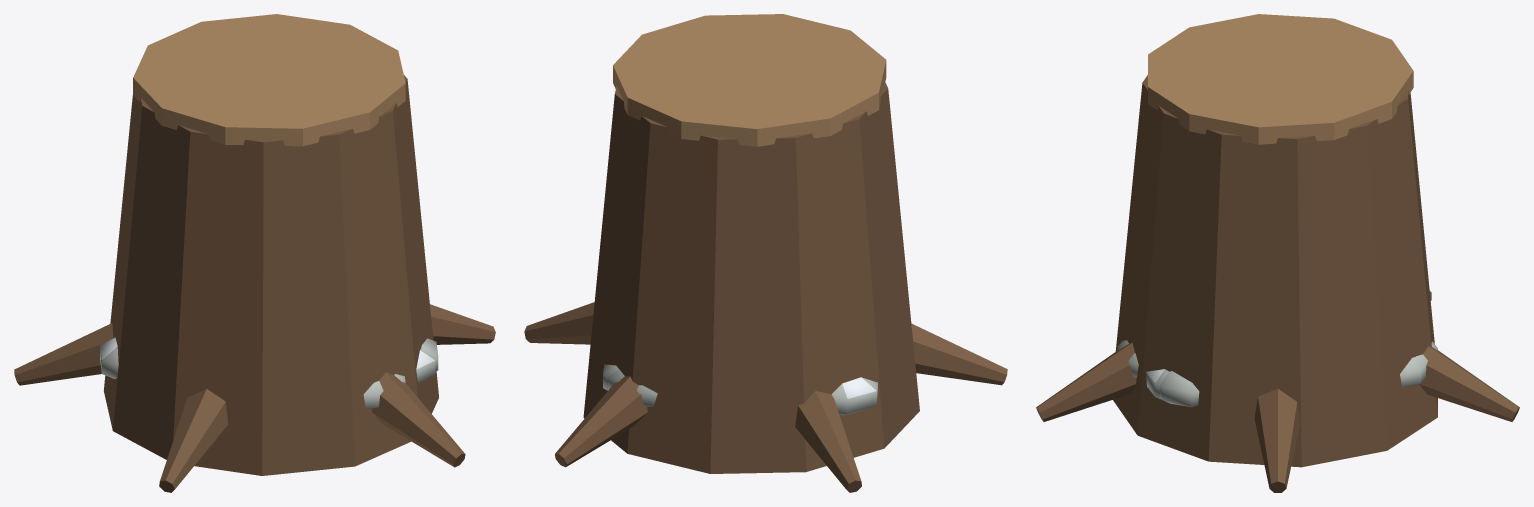
The model's file is stump_mossy_winter.glb.
3 renders of one model, left to right at view 1: azimuth 30°, elevation 25°; view 2: azimuth 150°, elevation 25°; view 3: azimuth 270°, elevation 25°, orthographic. The views are drawn at different scales.
Parts seen in each view (by area): view 1: stump_mossy_winter; view 2: stump_mossy_winter; view 3: stump_mossy_winter.
Boxes of the visible parts, bbox=[...] form: stump_mossy_winter: bbox=[14, 14, 495, 492]; stump_mossy_winter: bbox=[524, 14, 1007, 492]; stump_mossy_winter: bbox=[1036, 14, 1519, 492].
Bounding box in the file's own units: 1.33 × 1.04 × 1.39.
